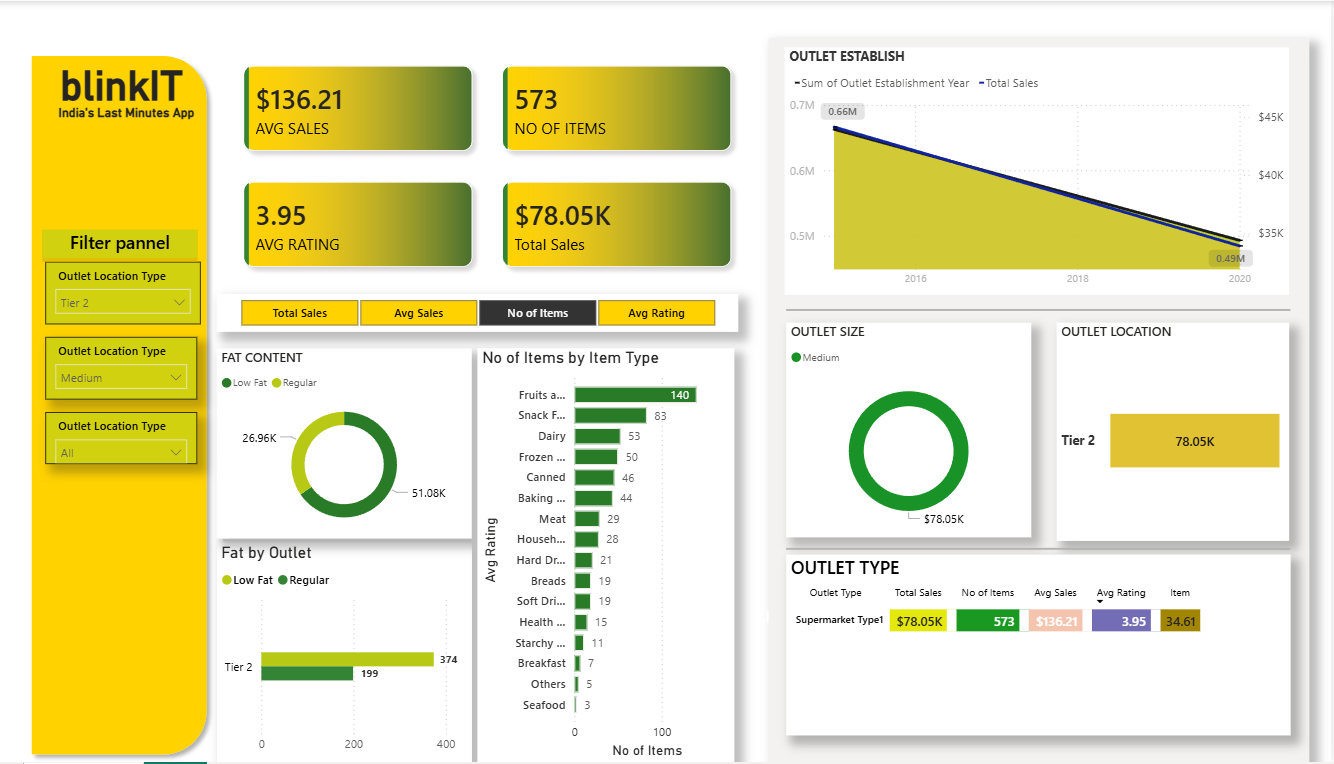

Layout of this report page (visuals, bound fields, positions):
{"tool":"powerbi","page":{"name":"Page 1","canvas":[1400,800],"ordinal":0},"visuals":[{"type":"shape","box":[26,48,202,752],"z":0},{"type":"textbox","title":"blinkIT","box":[48.1,64.1,160.3,48.1],"z":1000},{"type":"textbox","title":"India''s Last Minutes App","box":[53.4,109.5,160.3,64.1],"z":2000},{"type":"cardVisual","fields":{"Data":["BlinkIT Grocery Data.Avg Sales","BlinkIT Grocery Data.No of Items","BlinkIT Grocery Data.Avg Rating","BlinkIT Grocery Data.Total Sales"]},"box":[228,38,570,270],"z":3000},{"type":"donutChart","title":"FAT CONTENT","fields":{"Category":["BlinkIT Grocery Data.Item Fat Content"],"Y":["Sum(BlinkIT Grocery Data.Sales)"]},"box":[228,364,268,200],"z":4000},{"type":"slicer","fields":{"Values":["Metrics.Metrics"]},"box":[228,308,548,40],"z":5000},{"type":"clusteredBarChart","title":"Fat by Outlet","fields":{"Y":["BlinkIT Grocery Data.No of Items"],"Category":["BlinkIT Grocery Data.Outlet Location Type"],"Series":["BlinkIT Grocery Data.Item Fat Content"]},"box":[228,570,268,230],"z":6000},{"type":"barChart","fields":{"Y":["BlinkIT Grocery Data.No of Items"],"Category":["BlinkIT Grocery Data.Item Type"]},"box":[502,364,270,436],"z":7000},{"type":"shape","box":[808,38,568,762],"z":8000},{"type":"lineChart","title":"OUTLET ESTABLISH","fields":{"Y":["Sum(BlinkIT Grocery Data.Outlet Establishment Year)"],"Y2":["BlinkIT Grocery Data.Total Sales"],"Category":["BlinkIT Grocery Data.Outlet Establishment Year"]},"box":[826,48,530,260],"z":9000},{"type":"donutChart","title":"OUTLET SIZE","fields":{"Y":["BlinkIT Grocery Data.Total Sales"],"Category":["BlinkIT Grocery Data.Outlet Size"]},"box":[826.5,338.1,257.3,225.4],"z":10000},{"type":"funnel","title":"OUTLET LOCATION","fields":{"Y":["Sum(BlinkIT Grocery Data.Sales)"],"Category":["BlinkIT Grocery Data.Outlet Location Type"]},"box":[1112,338.1,244.2,229.2],"z":11000},{"type":"pivotTable","title":"OUTLET TYPE","fields":{"Rows":["BlinkIT Grocery Data.Outlet Type"],"Values":["BlinkIT Grocery Data.Total Sales","BlinkIT Grocery Data.No of Items","BlinkIT Grocery Data.Avg Sales","BlinkIT Grocery Data.Avg Rating","Sum(BlinkIT Grocery Data.Item Visibility)"]},"box":[826.5,582.3,529.7,189.7],"z":12000},{"type":"shape","box":[826.5,163.4,529.7,323.1],"z":13000},{"type":"shape","box":[657.4,640.5,300.5,13.1],"z":14000},{"type":"shape","box":[826.5,424.5,529.7,300.5],"z":15000},{"type":"shape","box":[234.8,373.8,261.1,386.9],"z":16000},{"type":"slicer","fields":{"Values":["BlinkIT Grocery Data.Outlet Location Type"]},"box":[48.8,274.2,163.4,65.7],"z":17000},{"type":"slicer","fields":{"Values":["BlinkIT Grocery Data.Outlet Size"]},"box":[48.8,353.1,159.7,65.7],"z":18000},{"type":"slicer","fields":{"Values":["BlinkIT Grocery Data.Item Type"]},"box":[48.8,432,159.7,54.5],"z":19000},{"type":"textbox","title":"Filter pannel","box":[45.1,240.4,163.4,33.8],"z":20000}]}

Visuals, with their boxes in screenshot pixels (x1, y1, x2, y2), scaled from the page's 1400x800 canvas onto the 1334x764 screenshot:
shape: rect(25, 46, 217, 763)
"blinkIT" textbox: rect(46, 61, 199, 107)
"India''s Last Minutes App" textbox: rect(51, 105, 204, 166)
cardVisual - BlinkIT Grocery Data.Avg Sales x BlinkIT Grocery Data.No of Items: rect(217, 36, 760, 294)
"FAT CONTENT" donutChart: rect(217, 348, 473, 539)
slicer - Metrics.Metrics: rect(217, 294, 739, 332)
"Fat by Outlet" clusteredBarChart: rect(217, 544, 473, 763)
barChart - BlinkIT Grocery Data.No of Items x BlinkIT Grocery Data.Item Type: rect(478, 348, 736, 763)
shape: rect(770, 36, 1311, 763)
"OUTLET ESTABLISH" lineChart: rect(787, 46, 1292, 294)
"OUTLET SIZE" donutChart: rect(788, 323, 1033, 538)
"OUTLET LOCATION" funnel: rect(1060, 323, 1292, 542)
"OUTLET TYPE" pivotTable: rect(788, 556, 1292, 737)
shape: rect(788, 156, 1292, 465)
shape: rect(626, 612, 913, 624)
shape: rect(788, 405, 1292, 692)
shape: rect(224, 357, 473, 726)
slicer - BlinkIT Grocery Data.Outlet Location Type: rect(46, 262, 202, 325)
slicer - BlinkIT Grocery Data.Outlet Size: rect(46, 337, 199, 400)
slicer - BlinkIT Grocery Data.Item Type: rect(46, 413, 199, 465)
"Filter pannel" textbox: rect(43, 230, 199, 262)
